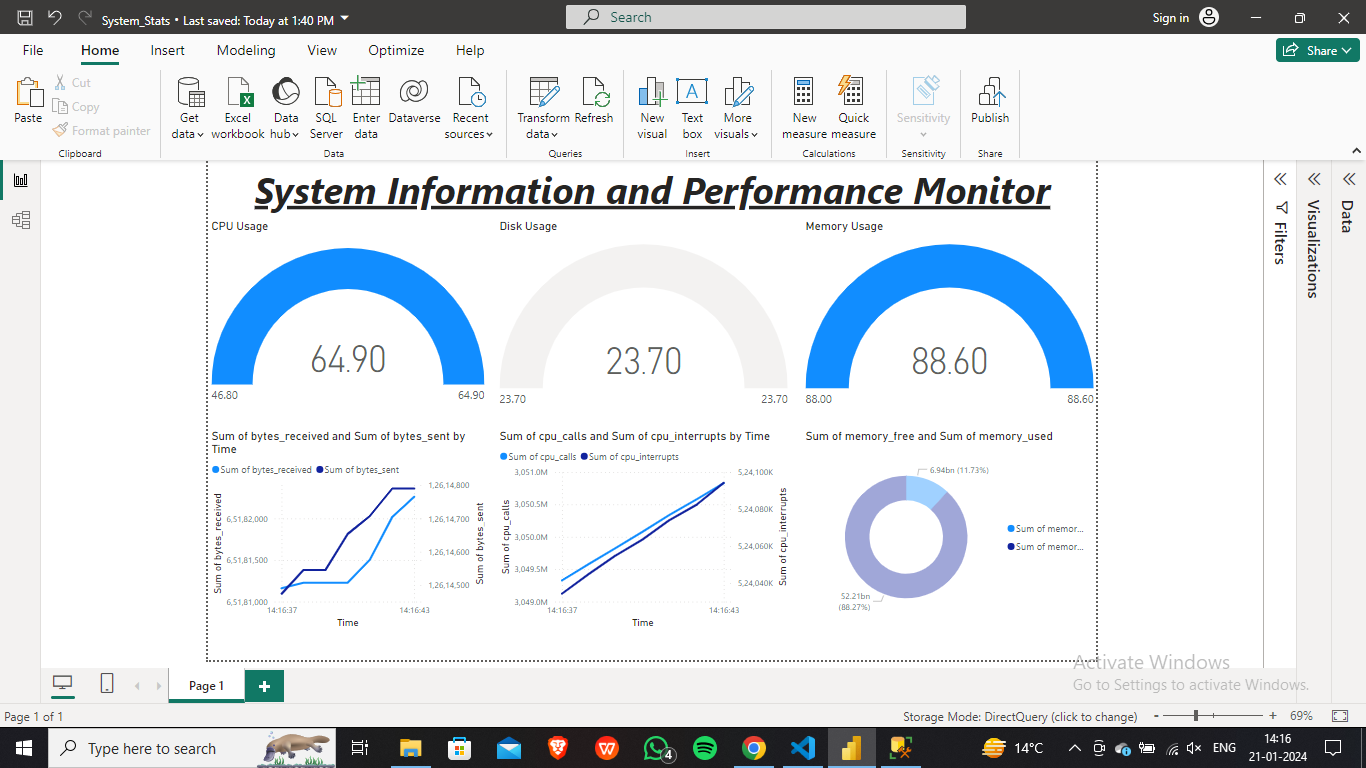

The dashboard page shown, as its layout file describes it:
{"tool":"powerbi","page":{"name":"Page 1","canvas":[1280,720],"ordinal":0},"visuals":[{"type":"textbox","box":[0,0,1280,85.7],"z":0},{"type":"gauge","title":"CPU Usage","fields":{"Y":["Performance.cpu_usage_latest"],"MinValue":["Min(Performance.cpu_usage)"],"MaxValue":["Max(Performance.cpu_usage)"]},"box":[0,85.7,403.1,292.3],"z":1000},{"type":"gauge","title":"Disk Usage","fields":{"Y":["Performance.disk_usage_latest"],"MinValue":["Min(Performance.disk_usage)"],"MaxValue":["Max(Performance.disk_usage)"]},"box":[414.9,85.7,425,292.3],"z":2000},{"type":"gauge","title":"Memory Usage","fields":{"Y":["Performance.memory_usage_latest"],"MinValue":["Min(Performance.memory_usage)"],"MaxValue":["Max(Performance.memory_usage)1"]},"box":[855,85.7,425,292.3],"z":3000},{"type":"lineChart","fields":{"Y":["Sum(Performance.bytes_received)"],"Y2":["Sum(Performance.bytes_sent)"],"Category":["Performance.Time"]},"box":[0,388,403,292],"z":4000},{"type":"lineChart","fields":{"Y":["Sum(Performance.cpu_calls)"],"Y2":["Sum(Performance.cpu_interrupts)"],"Category":["Performance.Time"]},"box":[415,388,425,292],"z":5000},{"type":"donutChart","fields":{"Y":["Sum(Performance.memory_free)","Sum(Performance.memory_used)"]},"box":[855,388,425,292],"z":5001}]}

Visuals, with their boxes on the page's 1280x720 design canvas (x1, y1, x2, y2). These are canvas units, not pixel positions in the 1366x768 screenshot, which may show the page scaled, cropped or inside an application window:
textbox: detection(0, 0, 1280, 86)
"CPU Usage" gauge: detection(0, 86, 403, 378)
"Disk Usage" gauge: detection(415, 86, 840, 378)
"Memory Usage" gauge: detection(855, 86, 1280, 378)
lineChart - Sum(Performance.bytes_received) x Sum(Performance.bytes_sent): detection(0, 388, 403, 680)
lineChart - Sum(Performance.cpu_calls) x Sum(Performance.cpu_interrupts): detection(415, 388, 840, 680)
donutChart - Sum(Performance.memory_free) x Sum(Performance.memory_used): detection(855, 388, 1280, 680)
